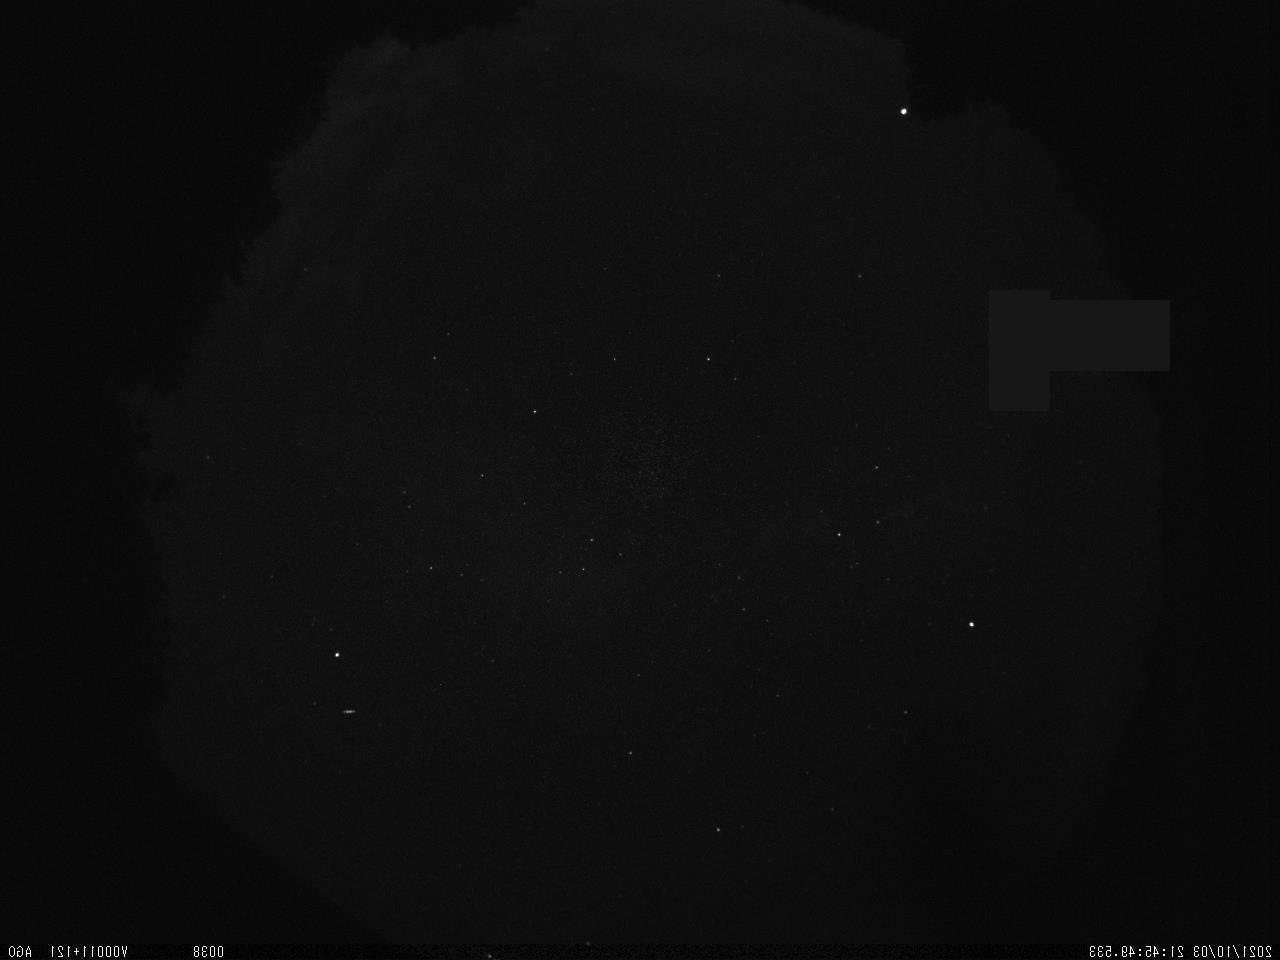meteor: (338, 705, 360, 723)
